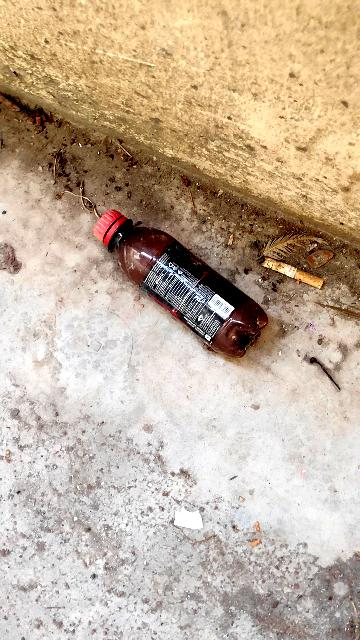bottle: (87, 180, 270, 356)
